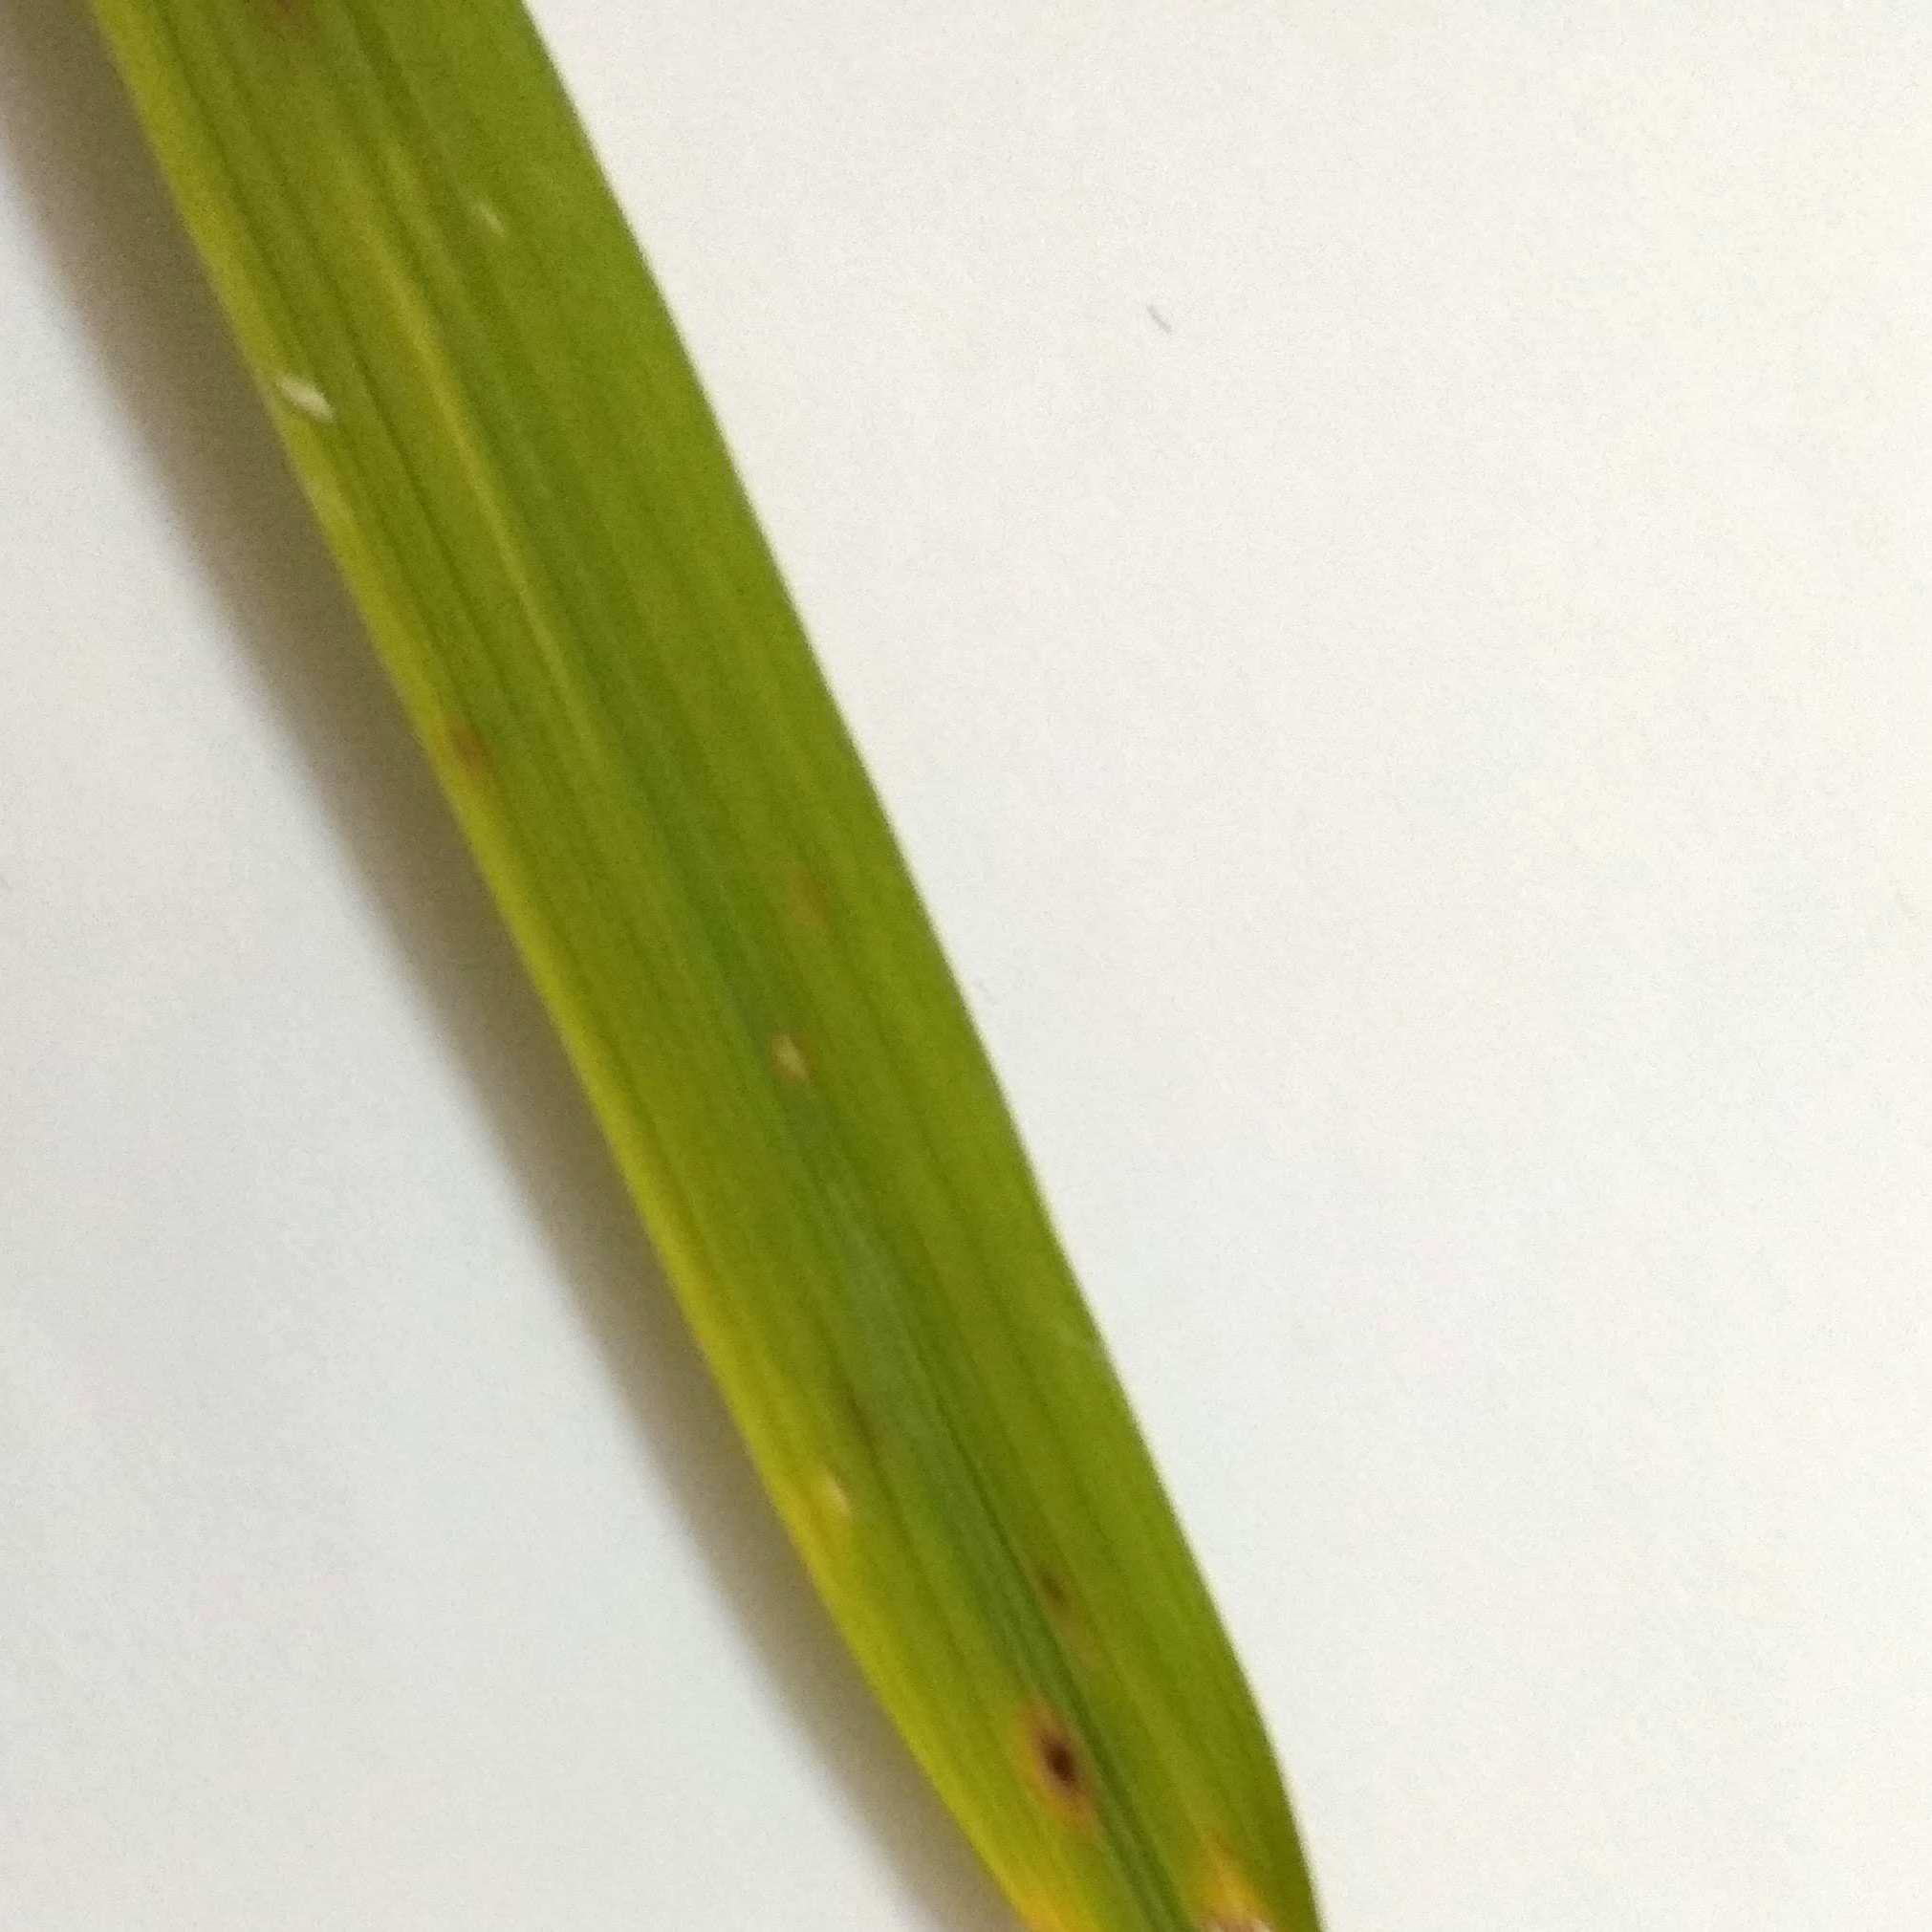brown spot: (993, 1698, 1108, 1824), (1005, 1548, 1099, 1642), (421, 708, 506, 793), (249, 5, 334, 55)
